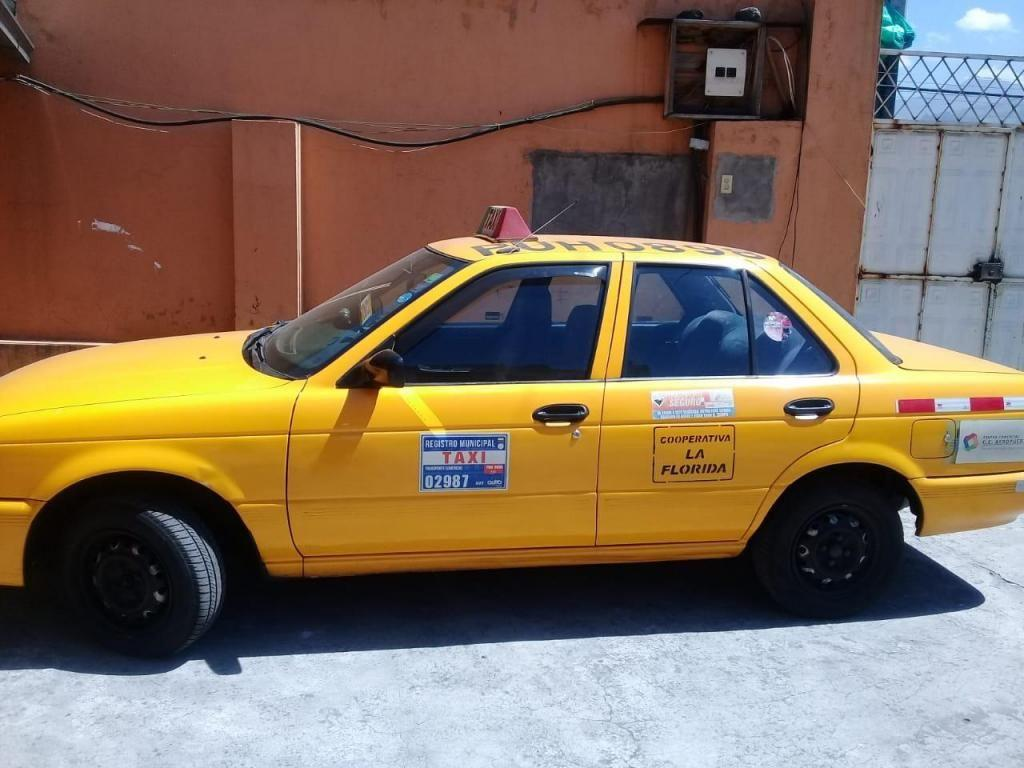taxi: (1, 188, 1024, 676)
